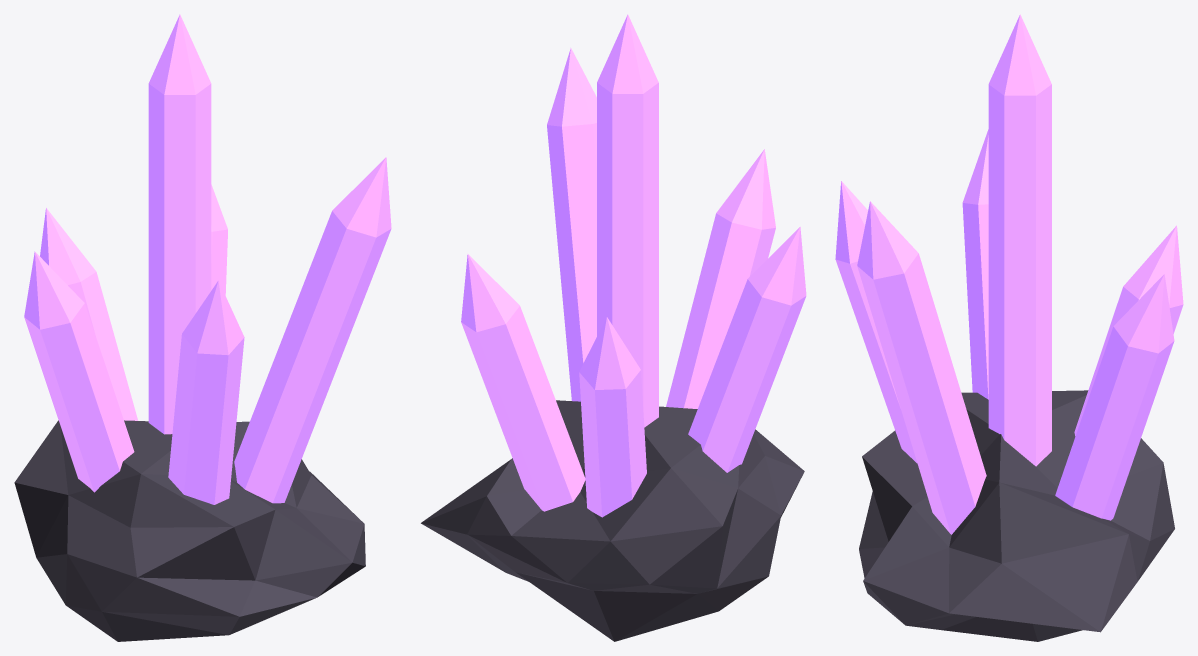
Rendered from crystal.glb.
3 renders of one model, left to right at view 1: azimuth 30°, elevation 25°; view 2: azimuth 150°, elevation 25°; view 3: azimuth 270°, elevation 25°, orthographic. The views are drawn at different scales.
Visible parts, largest first — view 1: Crystal; view 2: Crystal; view 3: Crystal.
Boxes of the visible parts, left/top/right/bottom form: Crystal: left=14, top=14, right=391, bottom=641; Crystal: left=421, top=14, right=806, bottom=641; Crystal: left=835, top=14, right=1183, bottom=641.
Size of the model in its own units: 1.1 by 1.92 by 0.9883.
